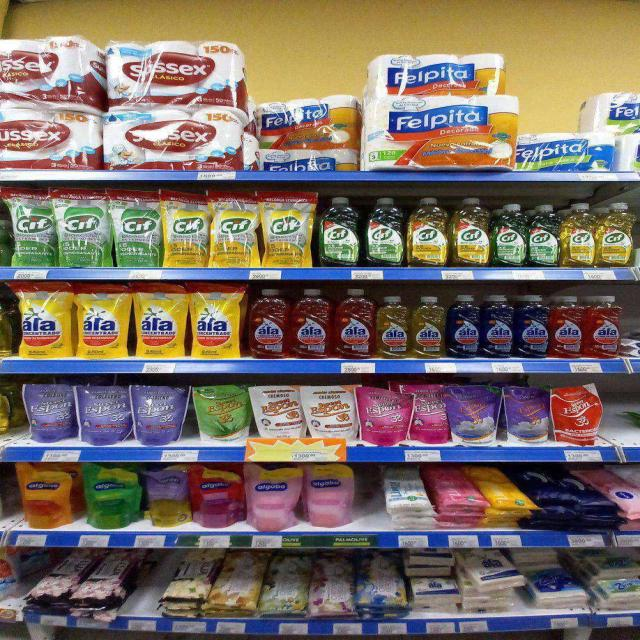ala_conc_amarillo: (410, 295, 445, 359), (375, 294, 409, 359)
ala_conc_azul: (447, 294, 480, 359), (516, 294, 549, 358), (482, 294, 514, 359)
ala_conc_rojo: (246, 287, 288, 359), (333, 288, 374, 360), (290, 288, 330, 360), (584, 294, 621, 359), (550, 294, 584, 359)
ala_sachet_amarillo: (75, 282, 131, 359), (17, 280, 72, 358), (190, 282, 244, 359), (134, 282, 187, 358)
cif_conc_bot_amarilla: (406, 197, 448, 267), (451, 197, 490, 267), (561, 201, 595, 268), (597, 202, 632, 267)
cif_conc_botella_verde: (316, 196, 361, 267), (363, 196, 405, 266), (492, 202, 526, 267), (528, 203, 560, 267)
cif_conc_sachet_amarillo: (261, 190, 314, 267), (209, 189, 259, 267), (163, 189, 209, 267)
cif_conc_sachet_verde: (58, 188, 111, 267), (113, 188, 162, 268), (10, 186, 56, 267)
drive: (16, 461, 78, 529)
